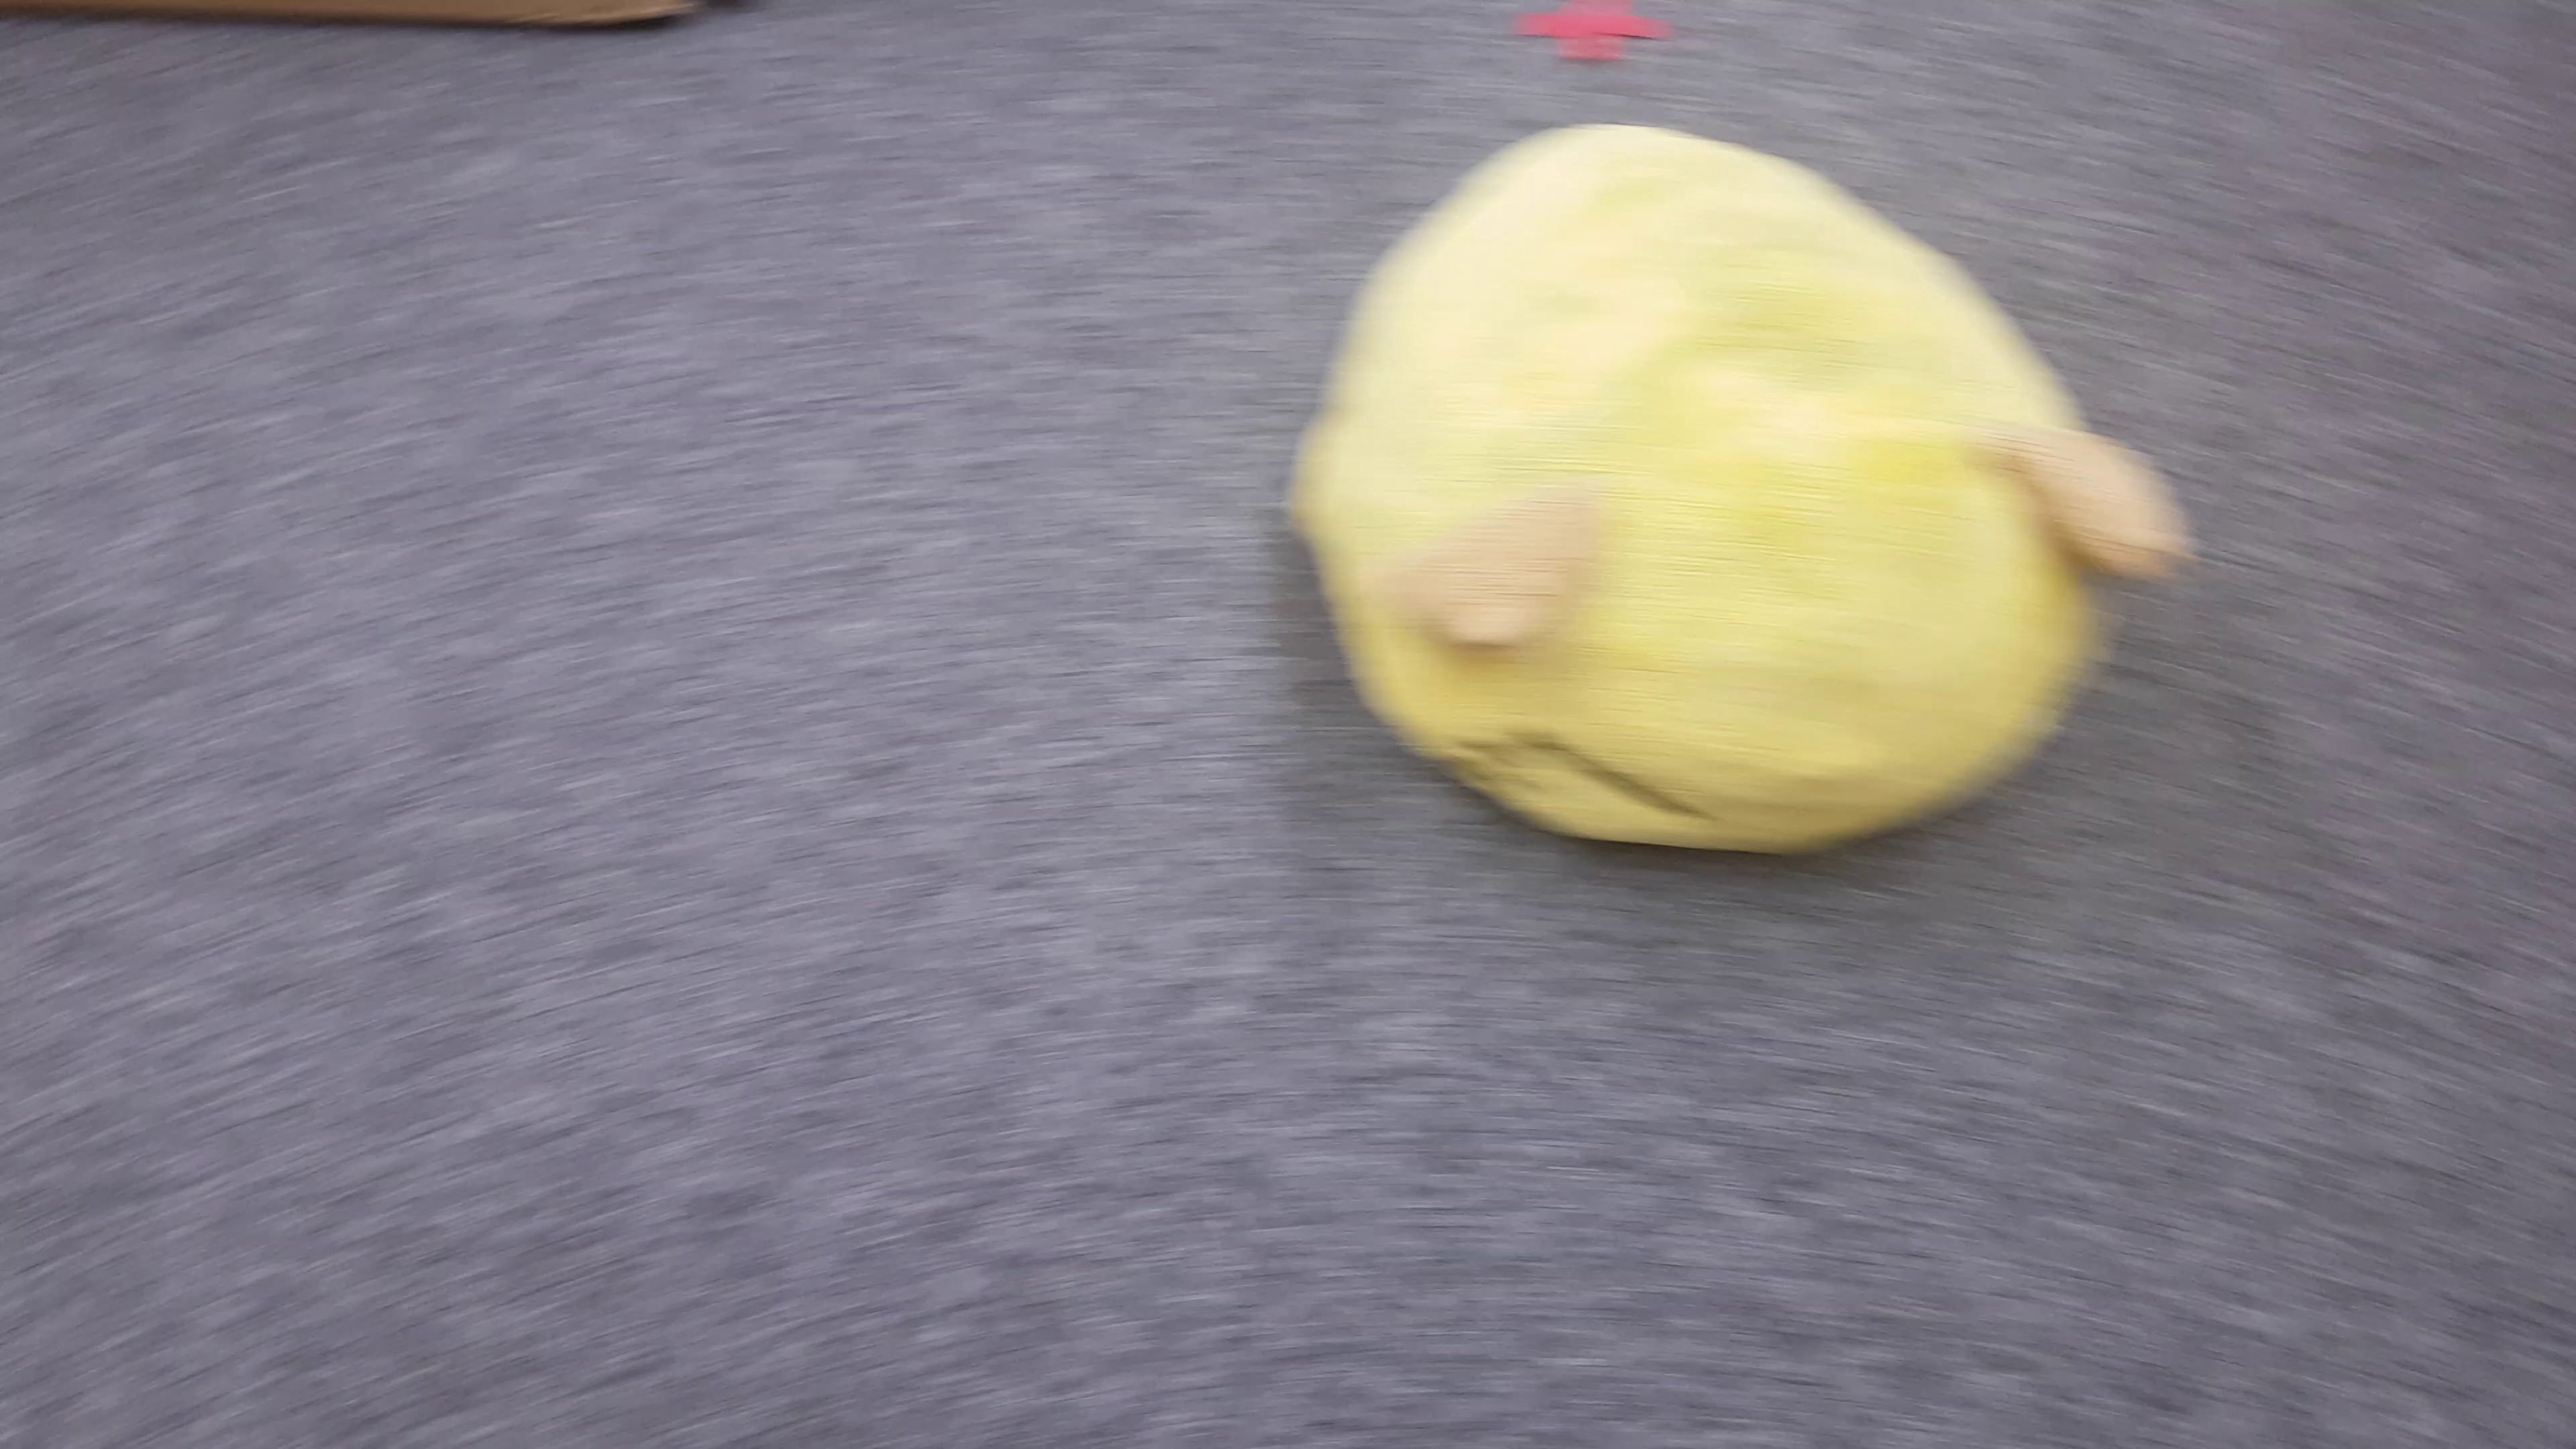grasp: (1292, 119, 2187, 839)
